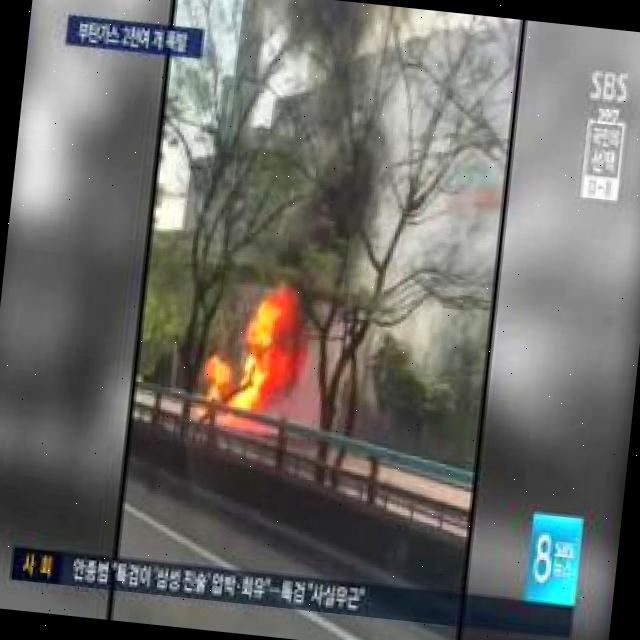fire: (224, 304, 300, 422), (200, 354, 222, 422)
